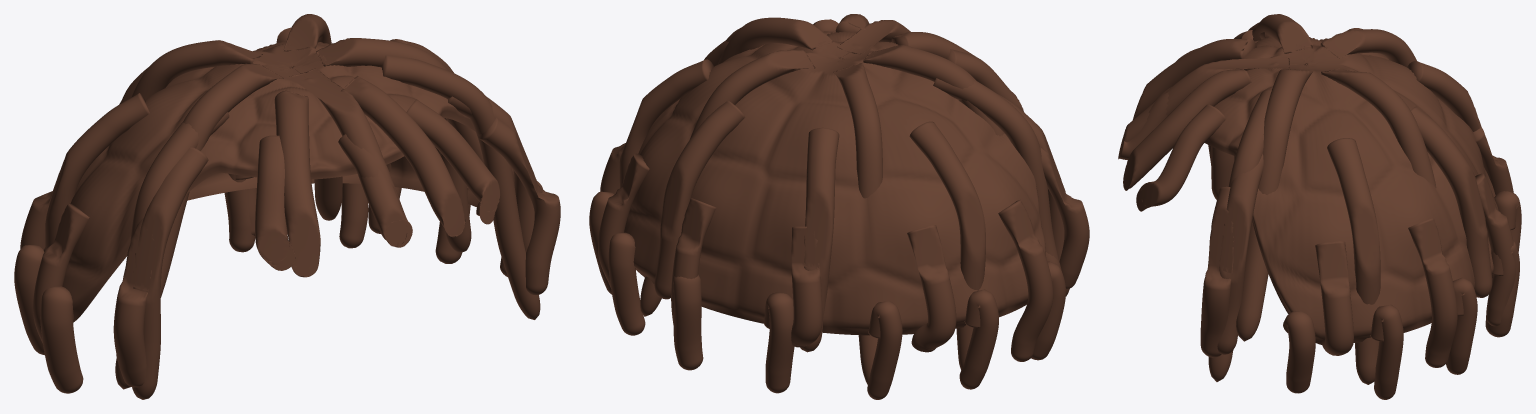
The model's file is Masculine-locs-cowboy252-hair.glb.
3 views of the same model, side by side, from view 1: azimuth 30°, elevation 25°; view 2: azimuth 150°, elevation 25°; view 3: azimuth 270°, elevation 25° (orthographic). The views are drawn at different scales.
Visible parts, largest first — view 1: 226 hair / Hair252 / sectioned locs.001; view 2: 226 hair / Hair252 / sectioned locs.001; view 3: 226 hair / Hair252 / sectioned locs.001.
Boxes of the visible parts, x1=… form: 226 hair / Hair252 / sectioned locs.001: x1=14, y1=14, x2=560, y2=399; 226 hair / Hair252 / sectioned locs.001: x1=589, y1=14, x2=1089, y2=399; 226 hair / Hair252 / sectioned locs.001: x1=1118, y1=14, x2=1521, y2=399.
Size of the model in its own units: 1.1 by 0.6357 by 0.8755.
